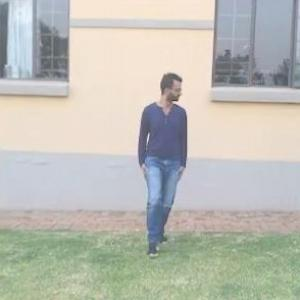follow: (137, 62, 198, 277)
